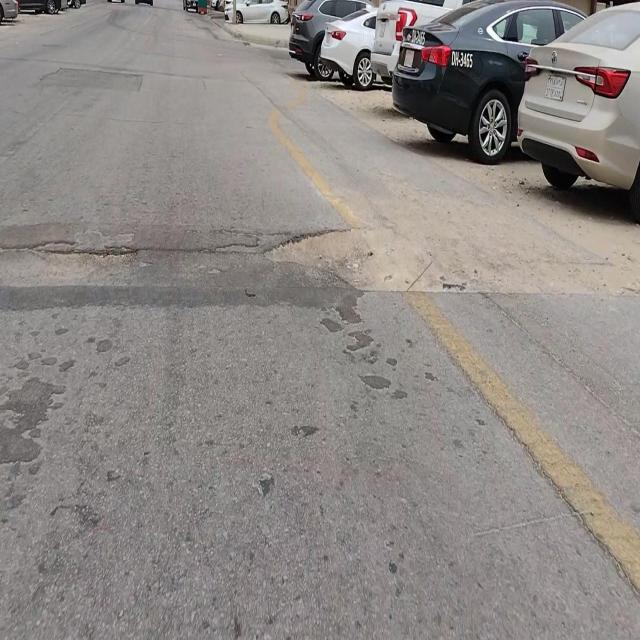Potholes: (263, 225, 403, 293), (0, 239, 139, 280)
